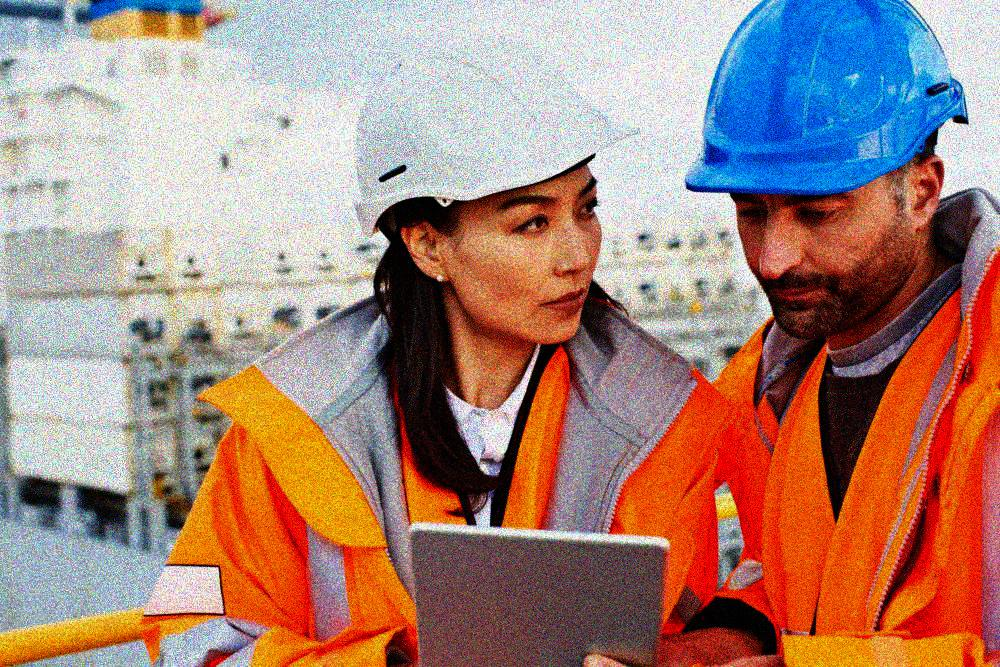helmet: (685, 1, 970, 339), (352, 39, 643, 342)
